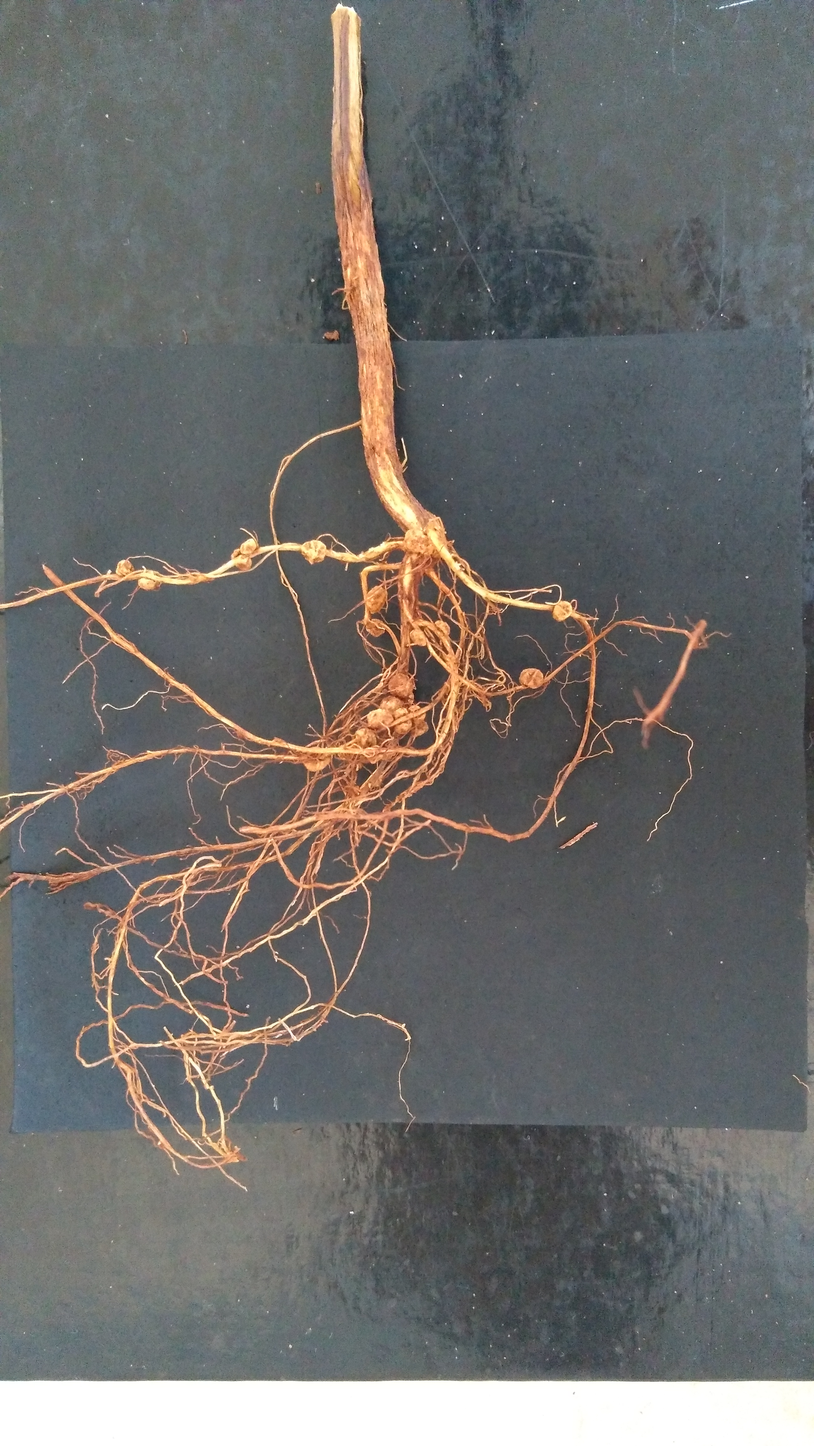nodule: (403, 529, 448, 558), (303, 746, 331, 772), (365, 586, 388, 614), (389, 673, 413, 699), (302, 541, 326, 564), (393, 707, 412, 735), (518, 668, 543, 689), (367, 709, 393, 729), (380, 696, 405, 716), (138, 570, 161, 591), (231, 548, 252, 571), (552, 601, 572, 622), (356, 728, 376, 748), (365, 619, 385, 637), (409, 629, 427, 647), (116, 560, 134, 577), (411, 720, 428, 737), (240, 538, 258, 554), (408, 705, 426, 721), (435, 620, 450, 636), (445, 654, 458, 668), (381, 689, 387, 694)
